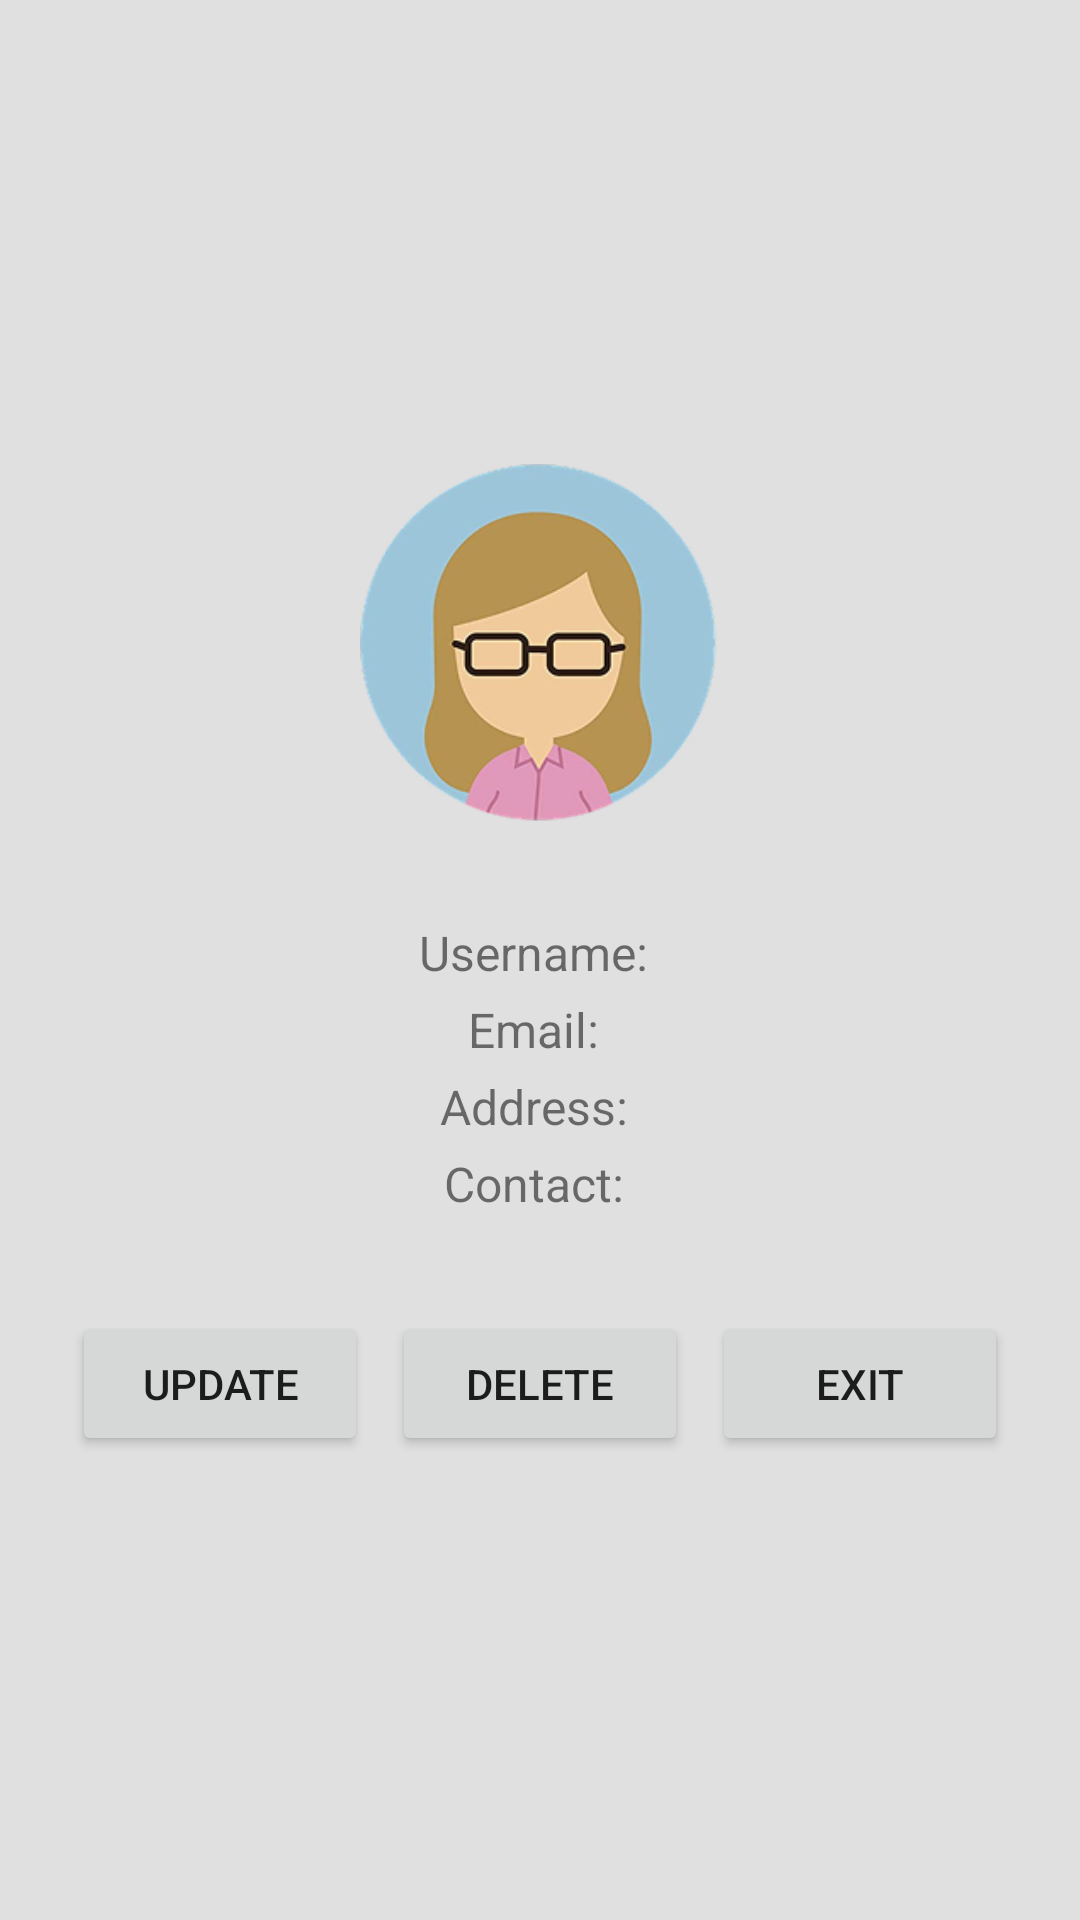

Icon click points for this 1080×1920 phone screenshot, format [x,y]:
profile: [537,642]
